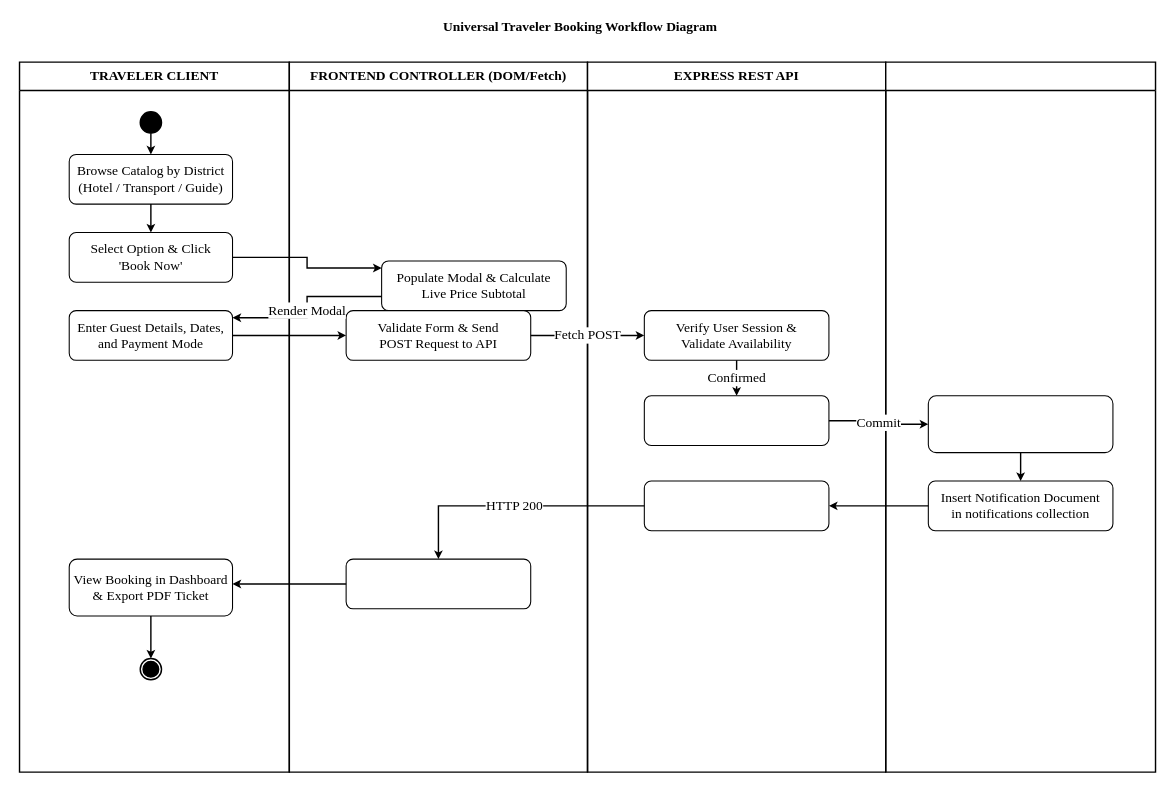
Image size: 1168x785. Some labels were removed from this diagram. The shapes that lost their labels are listed below. From the top down, each one's box as (x1, y1, x2, y2) in pixels, then its label:
(643, 395, 829, 446): Generate Unique Reference (e.g. HB-8921-2026)
(927, 395, 1113, 453): Write Record to Collection (hotelBookings/ transportBookings)
(885, 61, 1156, 772): MONGODB PERSISTENCE
(643, 480, 829, 531): Dispatch JSON Confirmation with Booking Payload
(345, 558, 531, 609): Receive JSON Response & Trigger Navbar Alert
